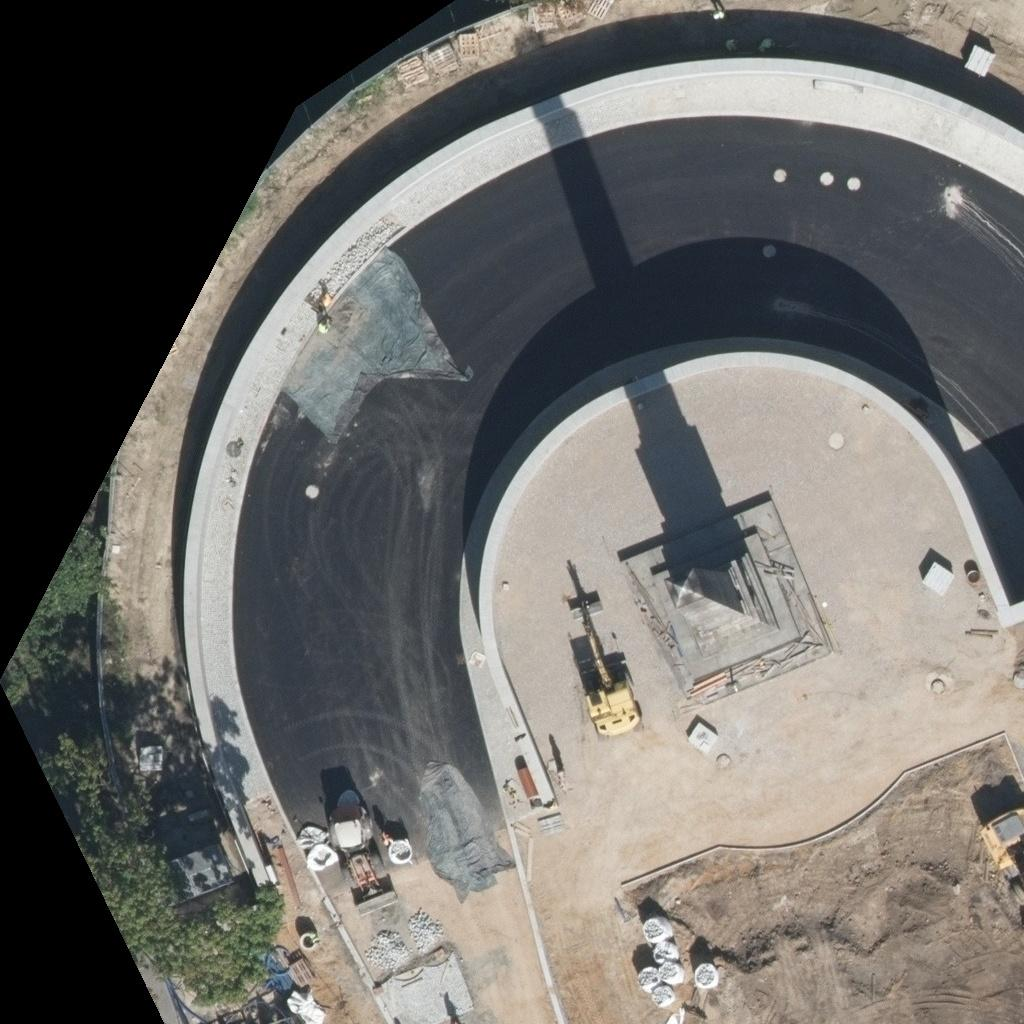koparka: (567, 560, 640, 736), (328, 790, 396, 914)
pracownik: (318, 316, 329, 332)
